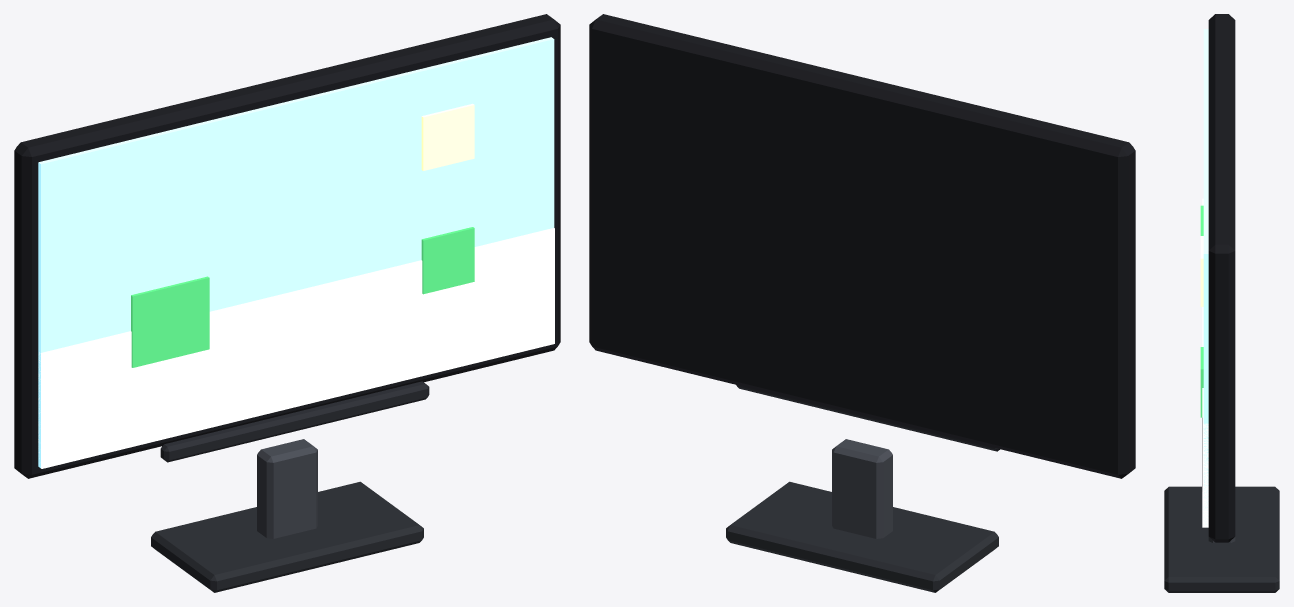
3 views of the same model, side by side, from view 1: azimuth 30°, elevation 25°; view 2: azimuth 150°, elevation 25°; view 3: azimuth 270°, elevation 25° (orthographic). The views are drawn at different scales.
Visible parts, largest first — view 1: tv; view 2: tv; view 3: tv.
Boxes of the visible parts, bbox=[...] form: tv: bbox=[14, 14, 560, 592]; tv: bbox=[589, 14, 1135, 592]; tv: bbox=[1164, 14, 1279, 592].
Size of the model in its own units: 1.26 by 1.04 by 0.26.
